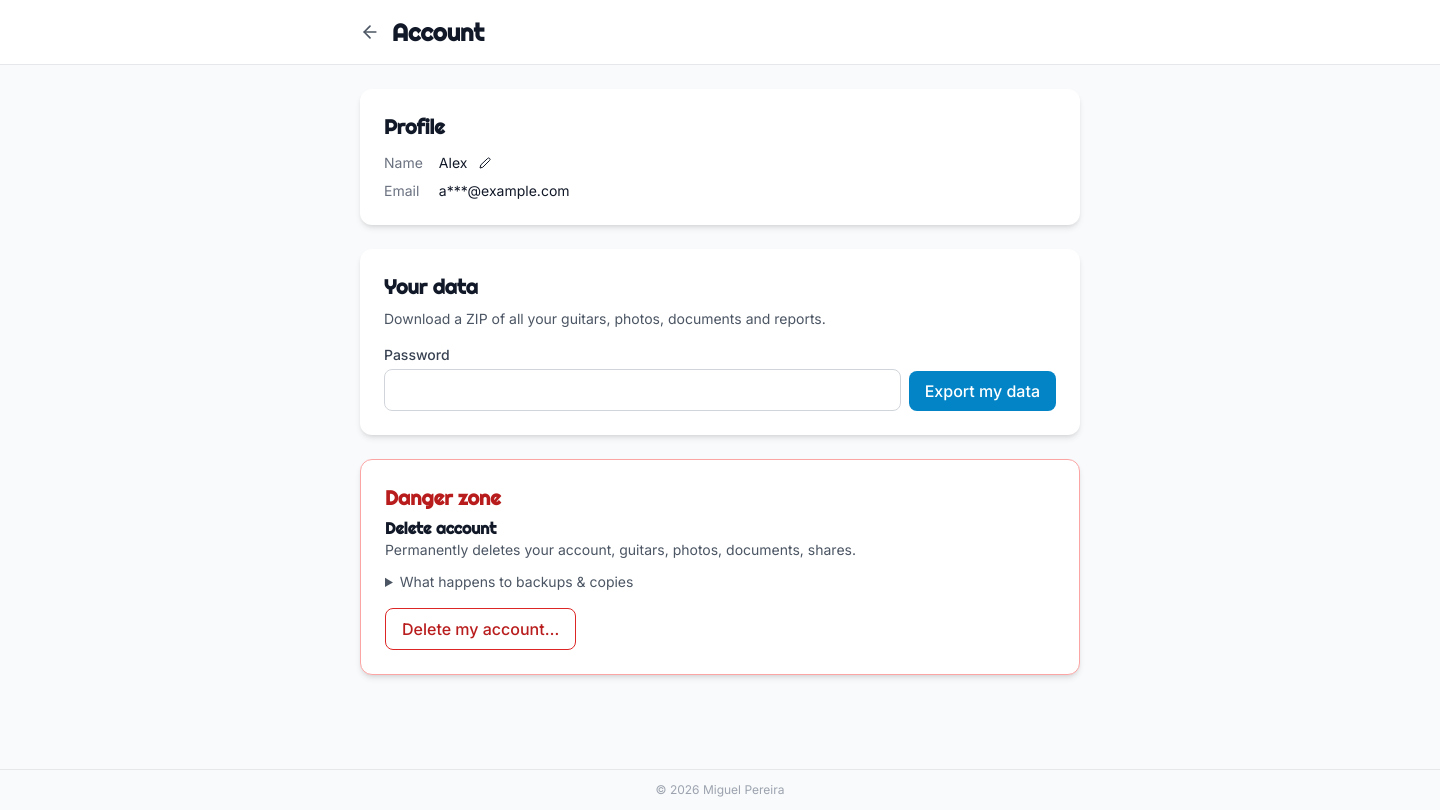
Test: Delete account dialog › WRONG_PASSWORD shows its message and keeps the dialog open
The width and height of the screenshot is (1440, 810).
Click the button "Delete my account…" at (481, 629), box [385, 608, 576, 650]
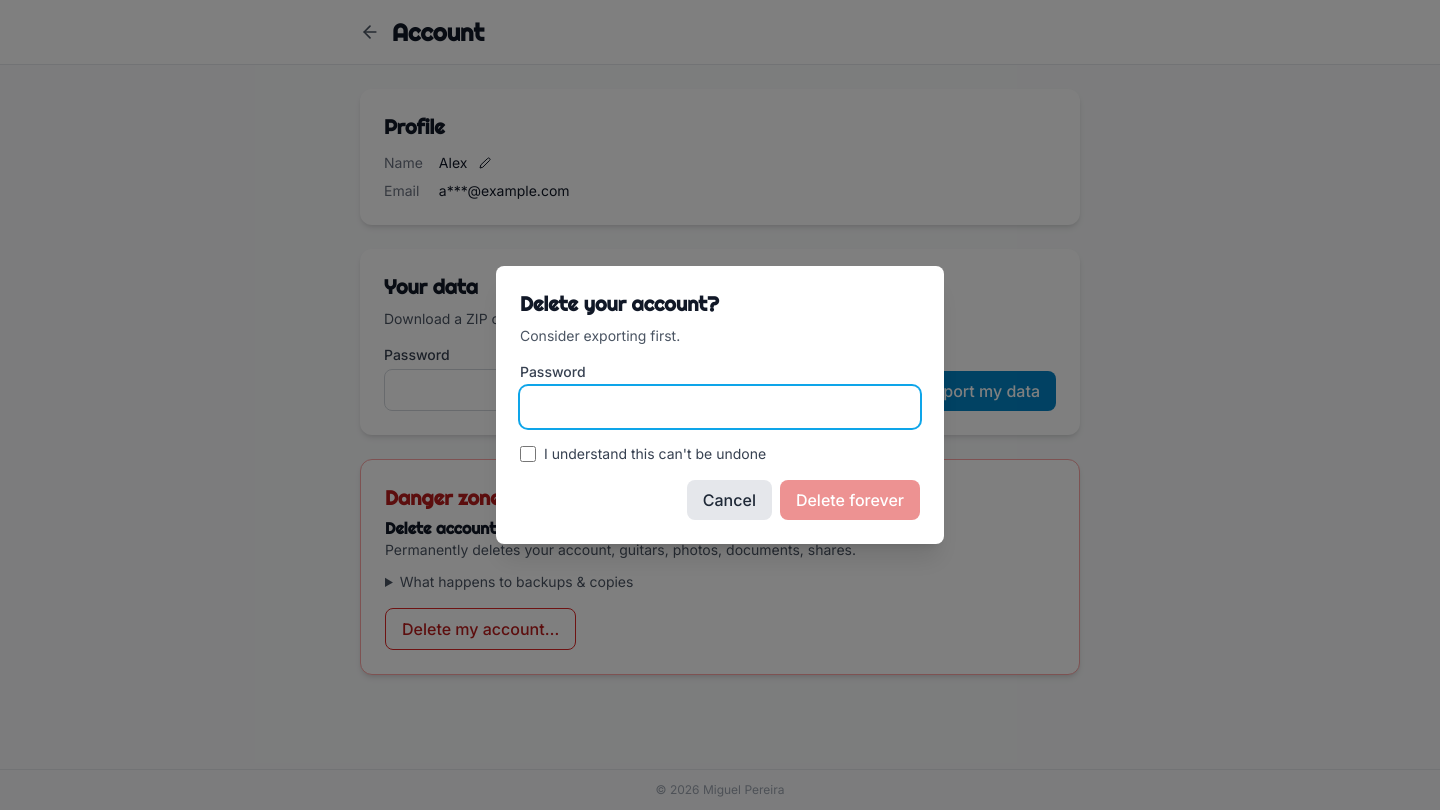
Type "pw" into the password field with id "delete-password" at (720, 407), box [520, 386, 920, 428]
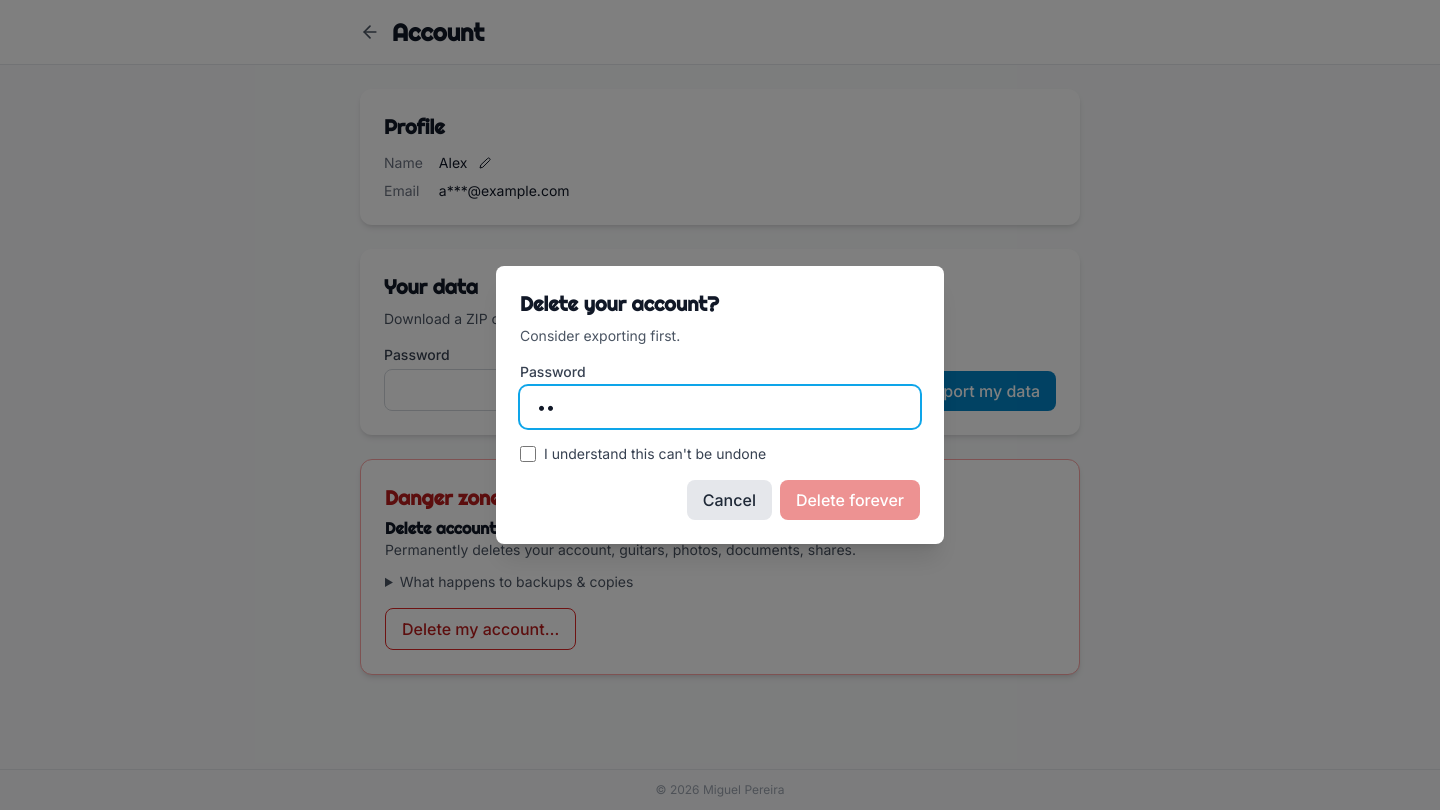
Click the checkbox labelled "I understand this can't be undone" at (528, 454), box [520, 446, 536, 462]
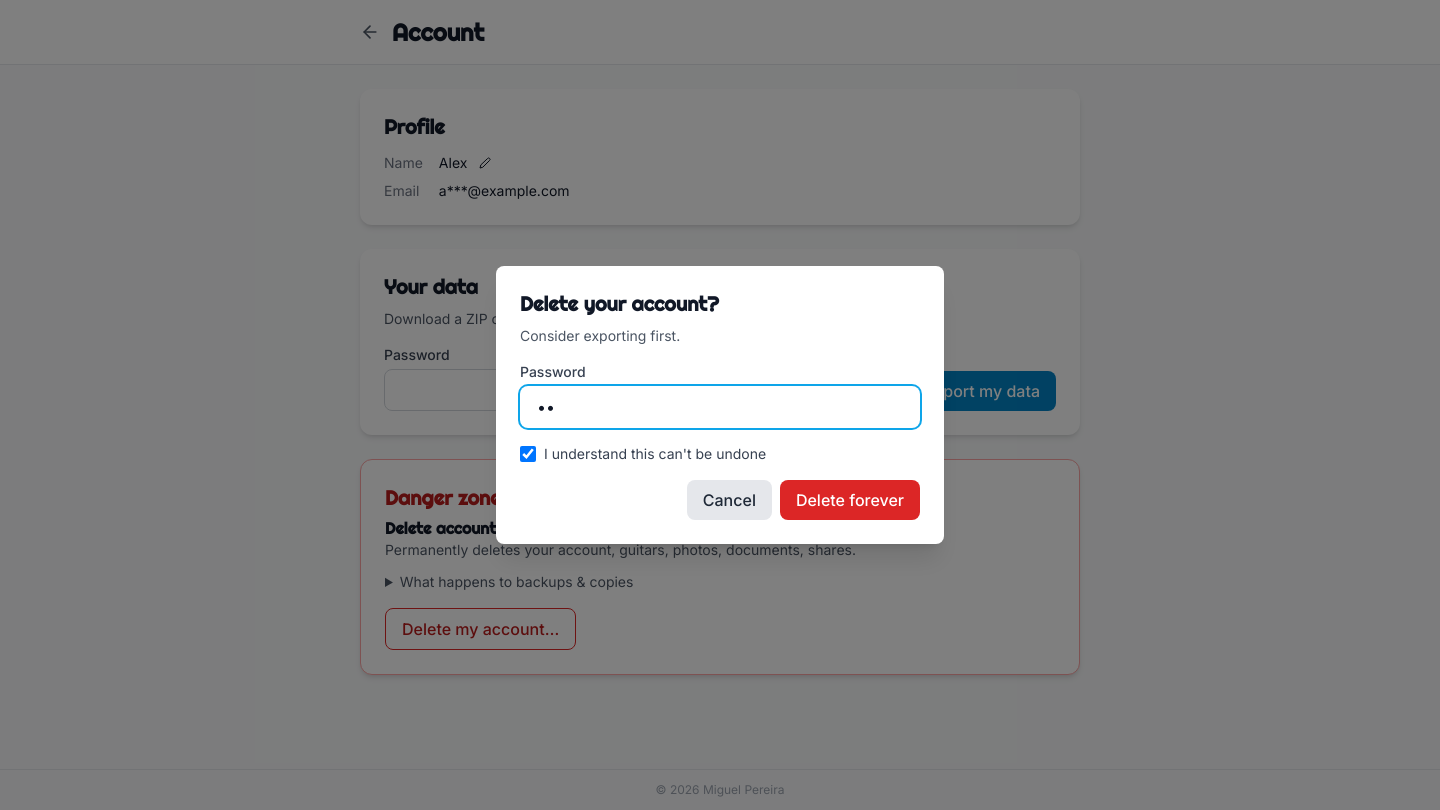
Click the button "Delete forever" at (850, 500), box [780, 480, 920, 520]
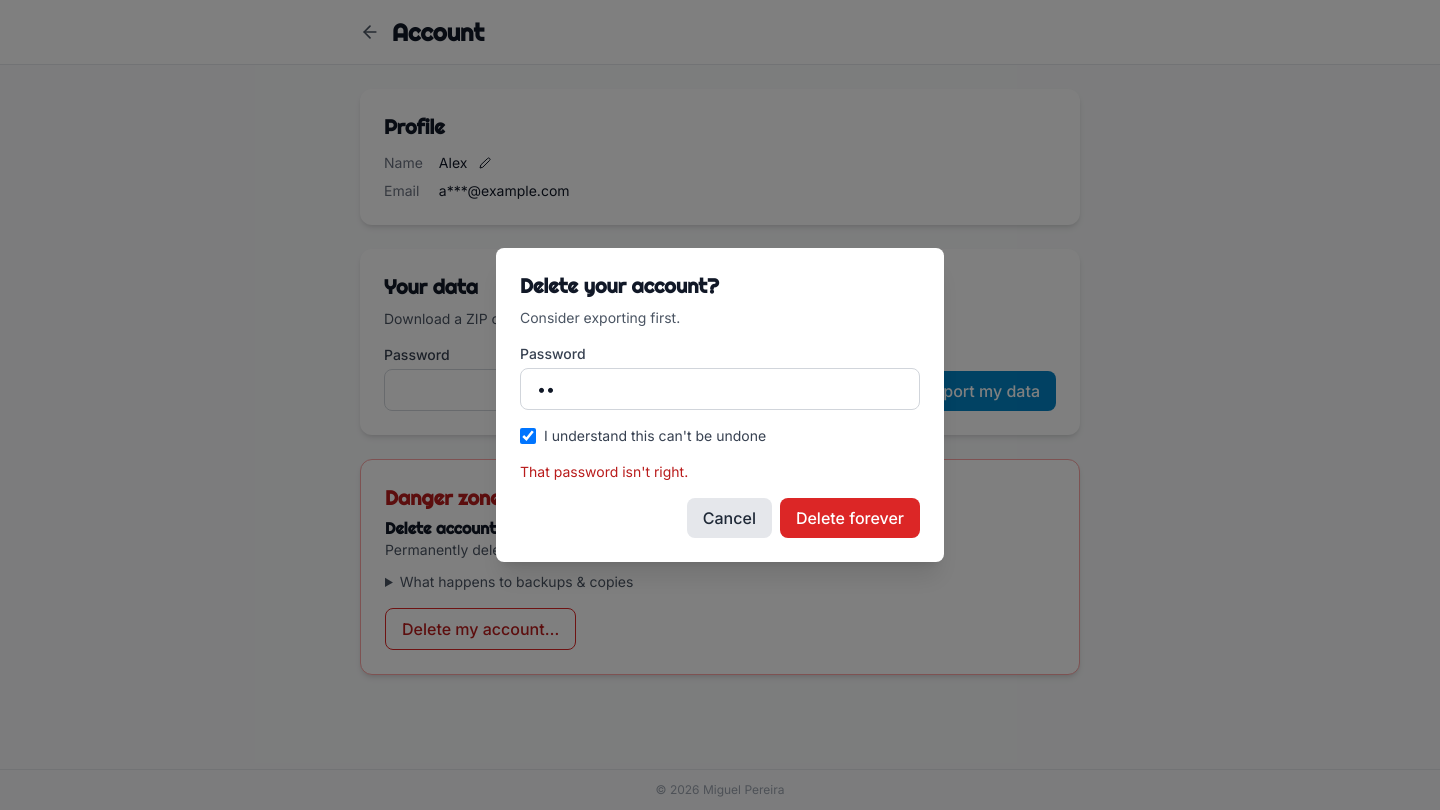
expect the message reads "That password isn't right.": met, box [520, 463, 688, 480]
